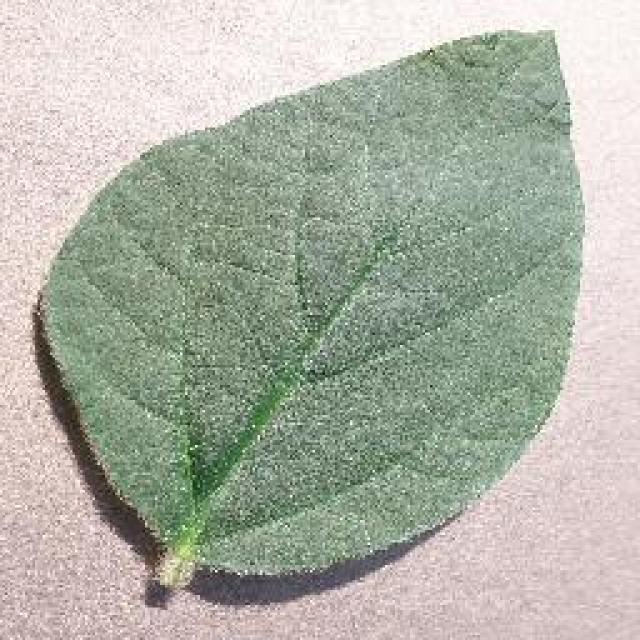Soy_healthy: (62, 56, 584, 515)
